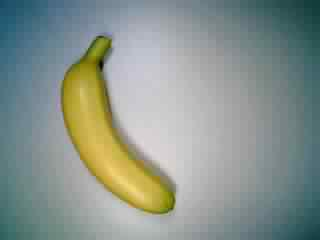banana: (56, 31, 184, 222)
